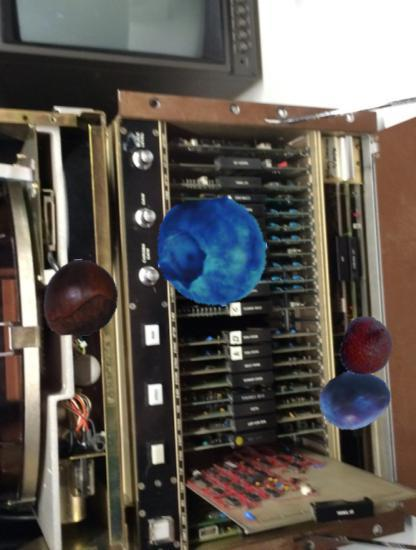Chestnut: (42, 259, 119, 336)
Huckleberry: (157, 197, 268, 308)
Plum: (319, 364, 391, 436)
Salak: (337, 317, 397, 377)
